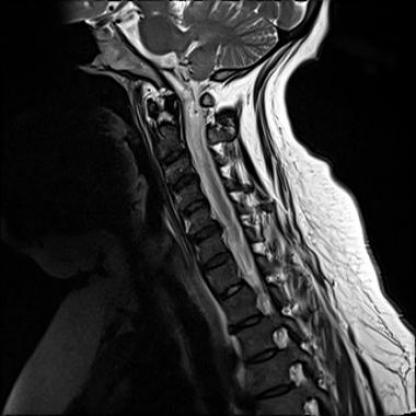Disc Herniationrotation: (186, 225, 225, 242)
Disc Protrusionrotation: (167, 174, 200, 191)
